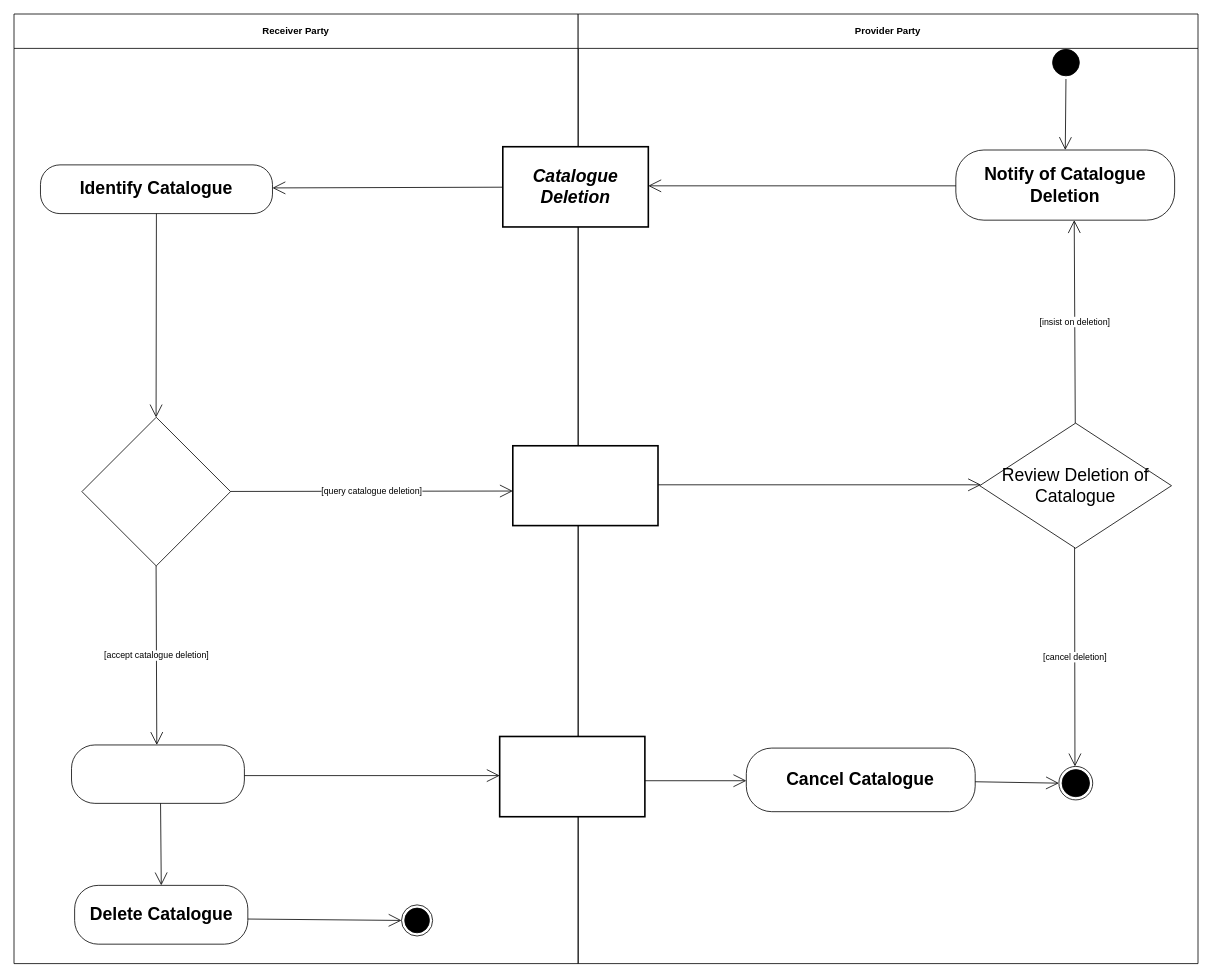
Some shapes in this 1212 by 978 pixel diagram are drawn without their labels. The centre of each missing label's shape, as x and y in pixels:
"Acknowledge Cancelation" goes at (x=157, y=773).
"Application Response (negative)" goes at (x=585, y=485).
"Application Response (positive)" goes at (x=571, y=776).
"Decide on Action" goes at (x=156, y=491).
